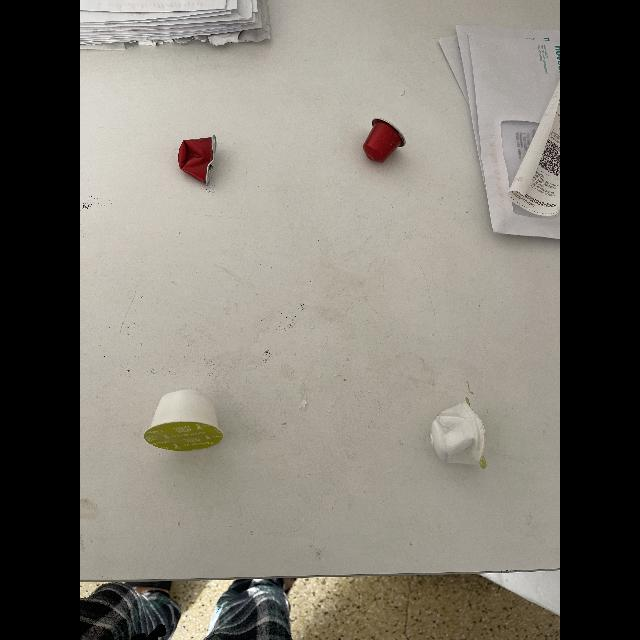damaged_capsule: (418, 393, 502, 475), (168, 129, 232, 191)
intact_capsule: (142, 384, 228, 458), (359, 116, 406, 166)
